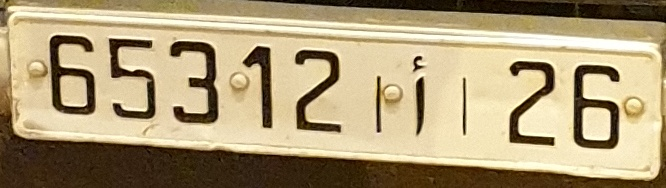1: (240, 43, 276, 130)
2: (506, 57, 562, 149), (292, 46, 344, 136)
3: (167, 39, 221, 127)
5: (107, 34, 159, 120)
6: (571, 61, 625, 150), (47, 32, 98, 118)
a: (410, 53, 430, 138)
